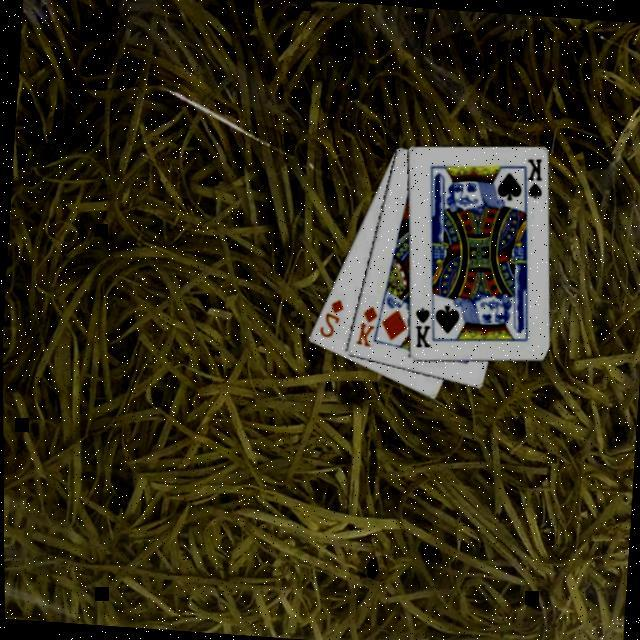2D: (312, 295, 343, 343)
KD: (349, 303, 378, 351)
KS: (514, 155, 543, 207), (406, 305, 432, 352)
